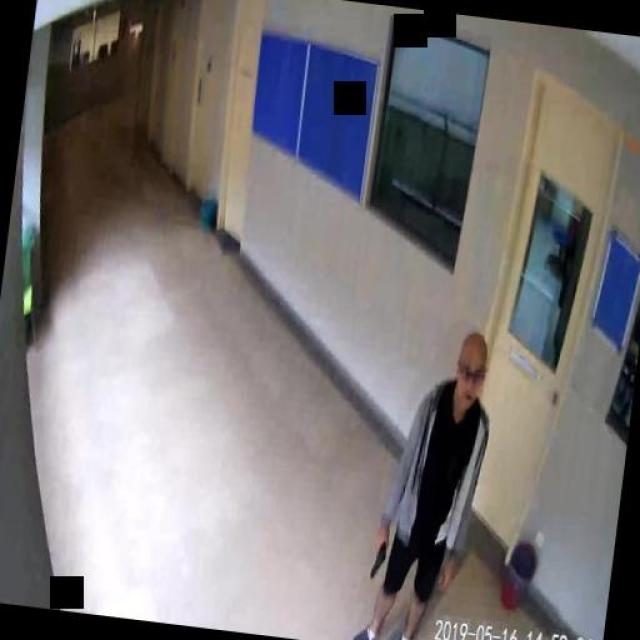gun: (368, 536, 388, 579)
